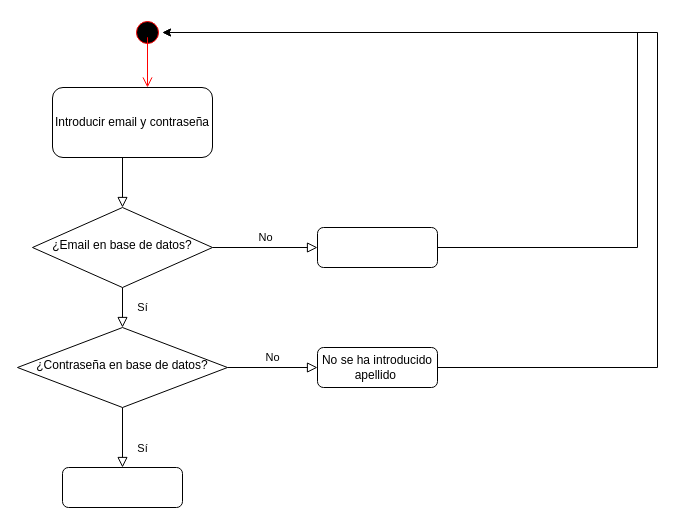
The diagram is 683 pixels wide and 525 high, and some of its shapes have lost their labels. Here are the shapes that lost their labels. From the top down, the centre of each, then its label:
At [377,247]: "Email no encontrado".
At [122,487]: "Sesión iniciada".
